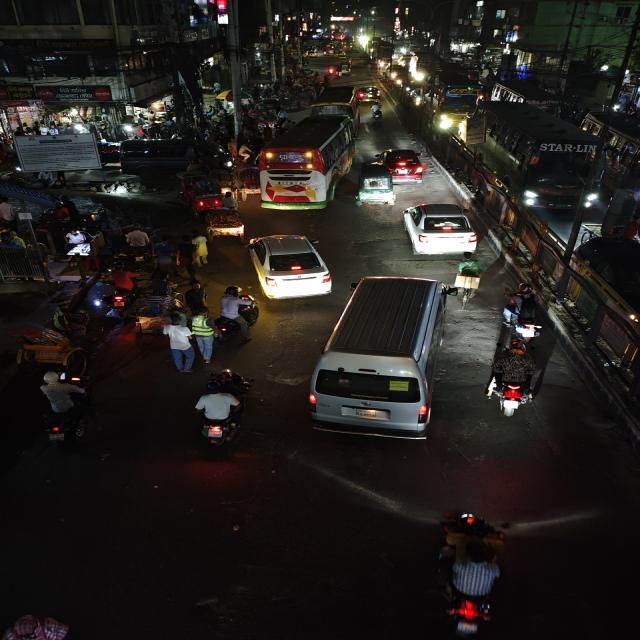bus: (307, 275, 448, 445), (481, 102, 598, 212), (256, 112, 358, 212), (588, 110, 640, 210), (424, 70, 483, 132), (312, 85, 358, 115)
car: (245, 230, 336, 302), (399, 200, 479, 260), (376, 147, 432, 186), (384, 64, 410, 82), (355, 85, 382, 102)
cng: (353, 162, 398, 208)
motorcycle: (430, 520, 516, 640), (192, 370, 254, 453), (35, 374, 98, 452), (482, 346, 540, 420), (500, 285, 544, 344), (216, 285, 257, 341), (448, 252, 485, 312), (106, 263, 140, 299), (104, 276, 135, 314), (368, 104, 384, 123)
pedestrian: (160, 314, 196, 372), (185, 307, 219, 365), (178, 232, 206, 280), (150, 235, 182, 272), (182, 279, 209, 315), (188, 232, 210, 268)
rickshaw: (10, 323, 95, 379), (482, 347, 540, 421), (132, 292, 180, 336), (174, 172, 228, 210), (202, 204, 248, 242), (120, 226, 154, 264)
